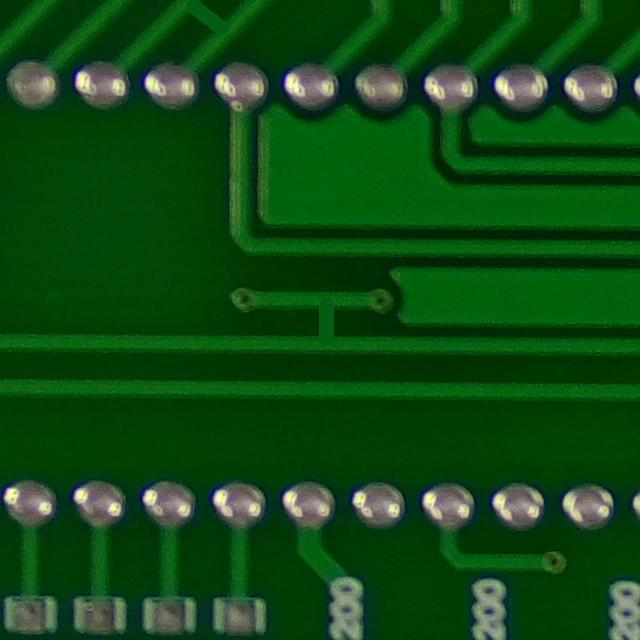short: (290, 287, 350, 354)
